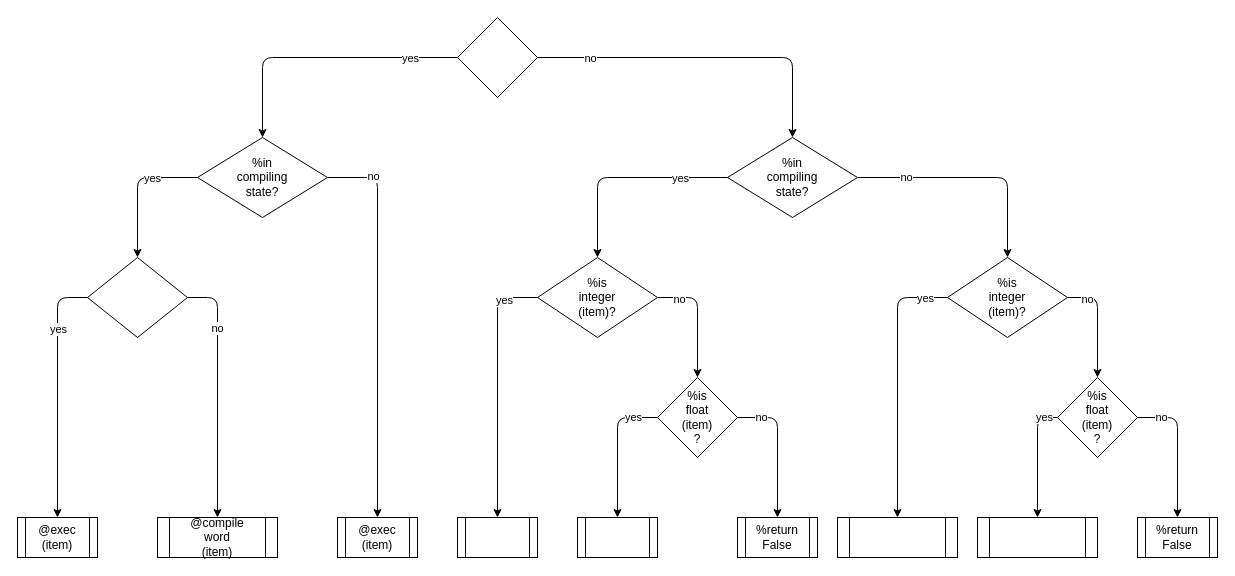
This 1235x576 diagram has some shape labels left out. Here are the shapes that lost their labels. From the top down, the centre of each, then its label:
At pixel 497 57: "found?".
At pixel 137 297: "found immediate ?".
At pixel 497 537: "@compile integer (item)".
At pixel 617 537: "@compile float (item)".
At pixel 897 537: "@push as integer (item)".
At pixel 1037 537: "@push as float (item)".
